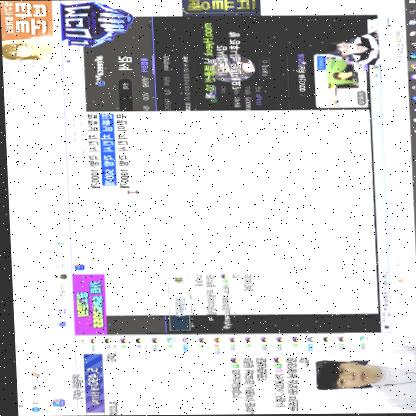donation: (199, 22, 246, 99)
streamer: (311, 332, 416, 414), (328, 29, 380, 66)
